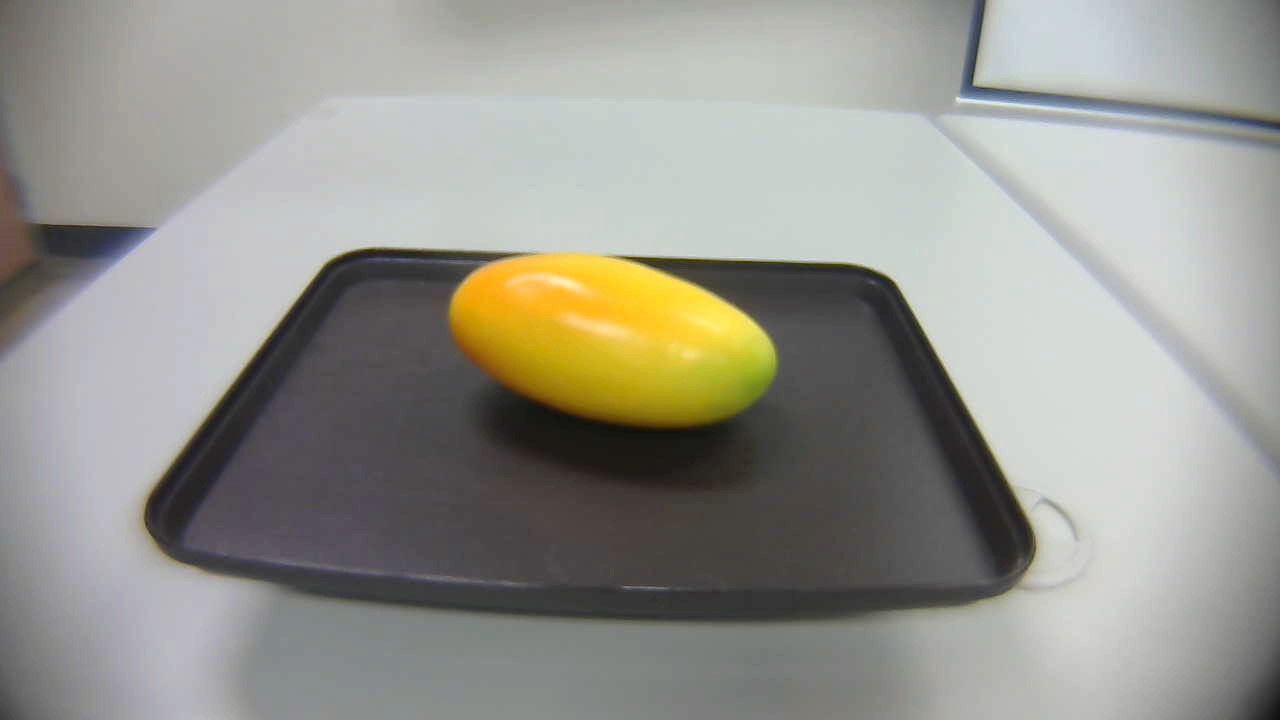yellow mango: (436, 245, 791, 442)
